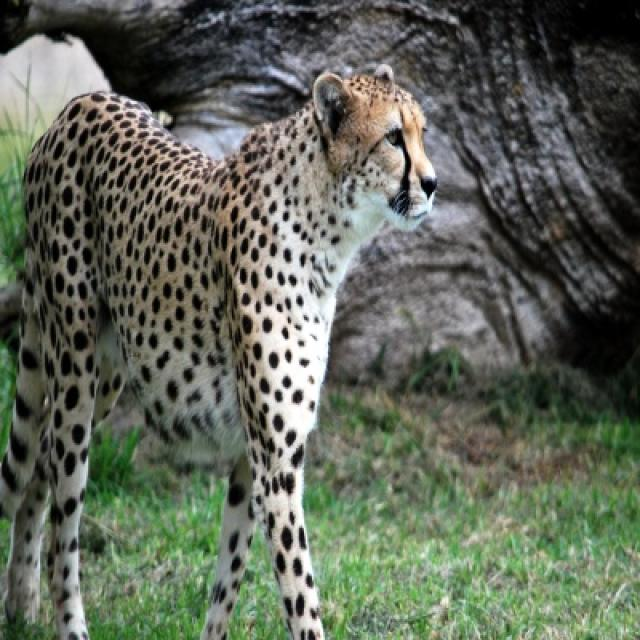Cheetah: (0, 70, 438, 638)
